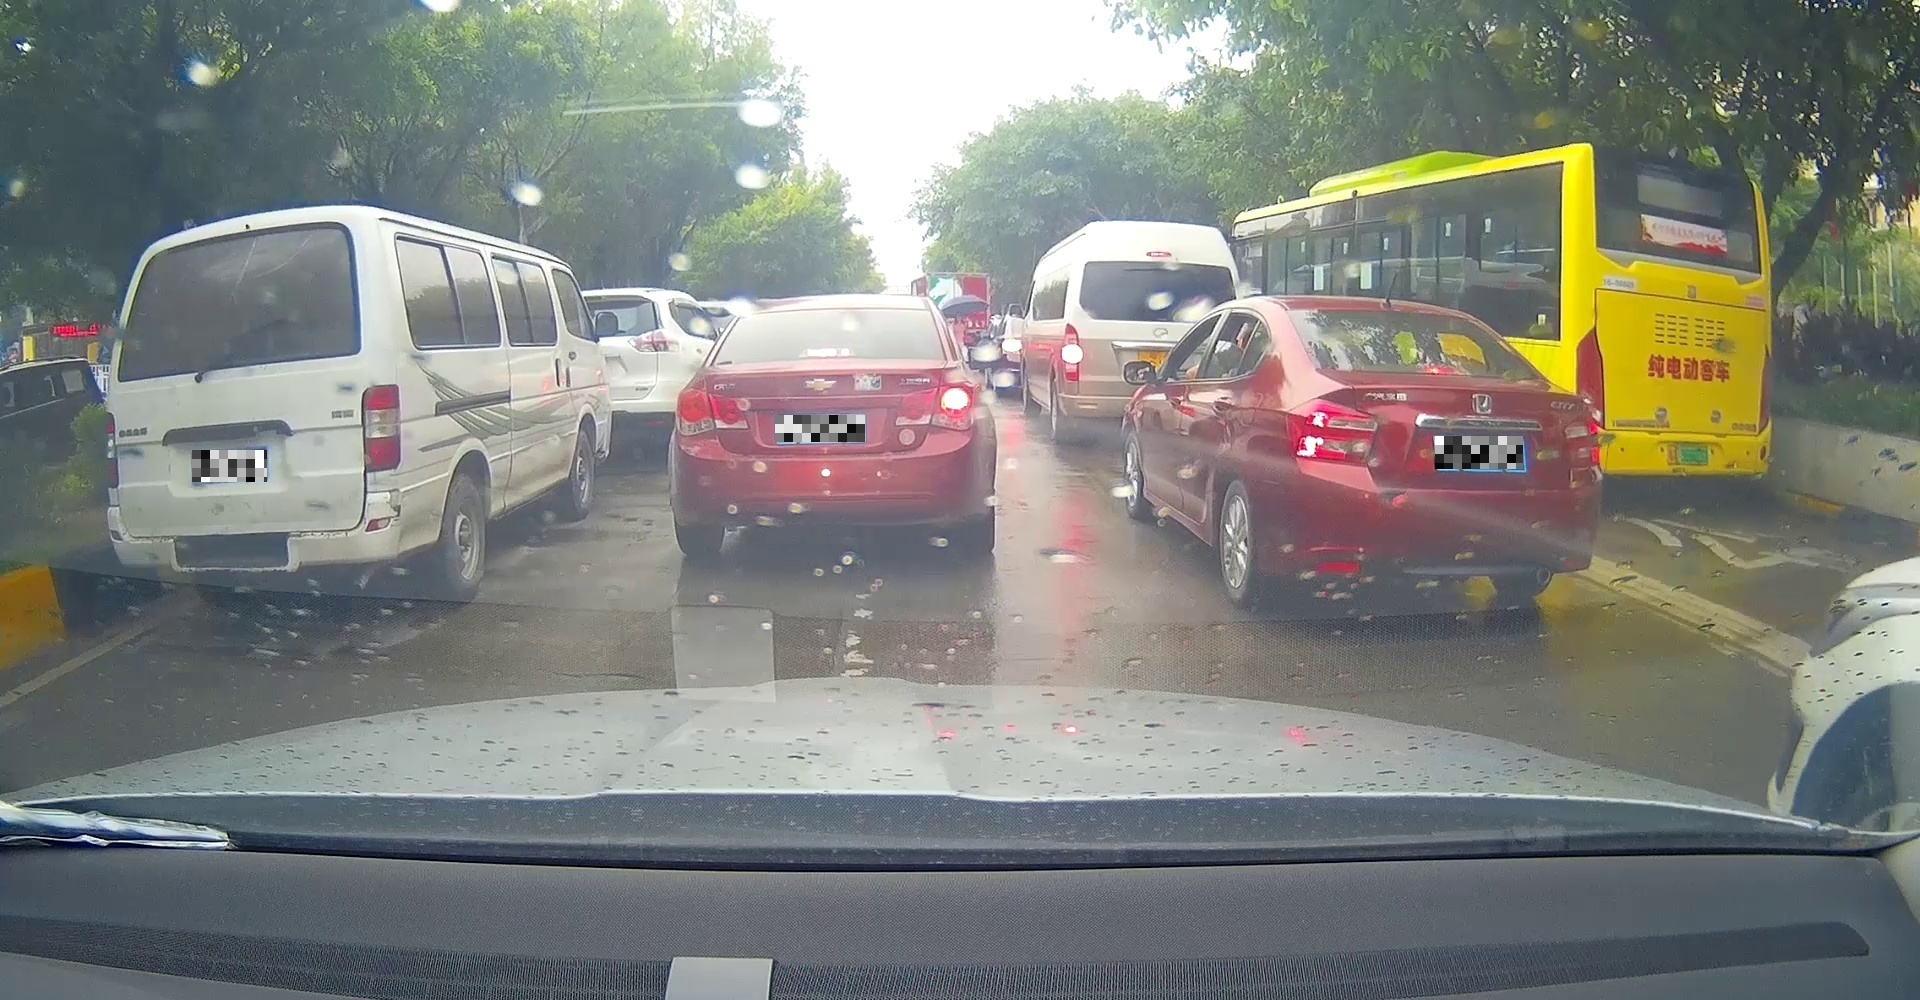L_light: (1284, 398, 1379, 464), (672, 386, 749, 437), (100, 412, 119, 487)
R_light: (893, 383, 977, 431), (362, 383, 403, 473), (1564, 412, 1604, 468)
T_light: (800, 346, 852, 357), (1418, 363, 1460, 374), (215, 235, 262, 242)
day-brake: (1269, 299, 1606, 608)
day-no: (99, 206, 408, 613)
day-right: (665, 297, 985, 557)
plate_1: (192, 451, 267, 482)
plate_2: (775, 415, 865, 442)
plate_3: (1435, 437, 1523, 470)
